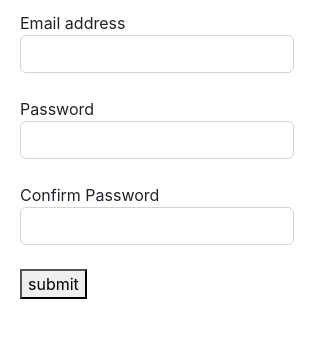
password validation › does return password not matching error but only if  the email is valid
The image size is (320, 356).
Type "bademail" into the field labelled "Email address" at (157, 54), box [20,35,294,73]
Type "bad" into the password field labelled "Password" at (157, 140), box [20,121,294,159]
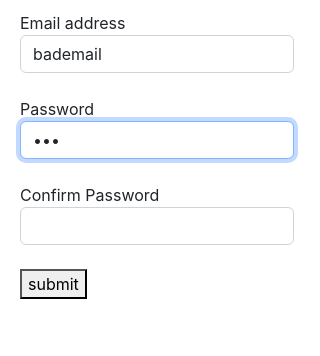
Type "bad" into the password field labelled "Confirm Password" at (157, 226), box [20,207,294,245]
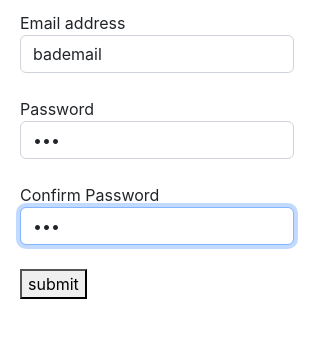
Click the button "submit" at (53, 284), box [20,269,87,299]
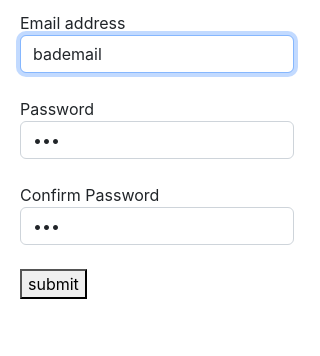
expect the text "match" is not shown: met
Type "good@email.com" into the field labelled "Email address" at (157, 54), box [20,35,294,73]
Type "1234" into the password field labelled "Password" at (157, 140), box [20,121,294,159]
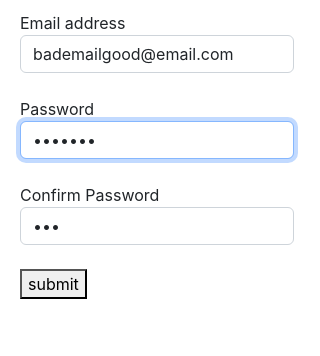
Type "9999" into the password field labelled "Confirm Password" at (157, 226), box [20,207,294,245]
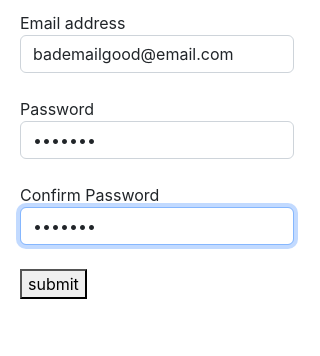
Click the button "submit" at (53, 284), box [20,269,87,299]
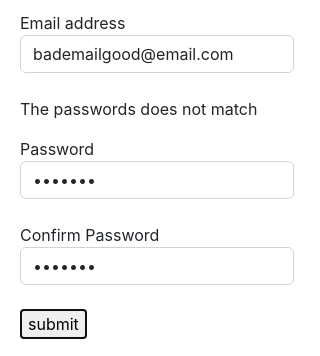
expect the text "The passwords does not match" is shown: met, box [20,99,258,119]
